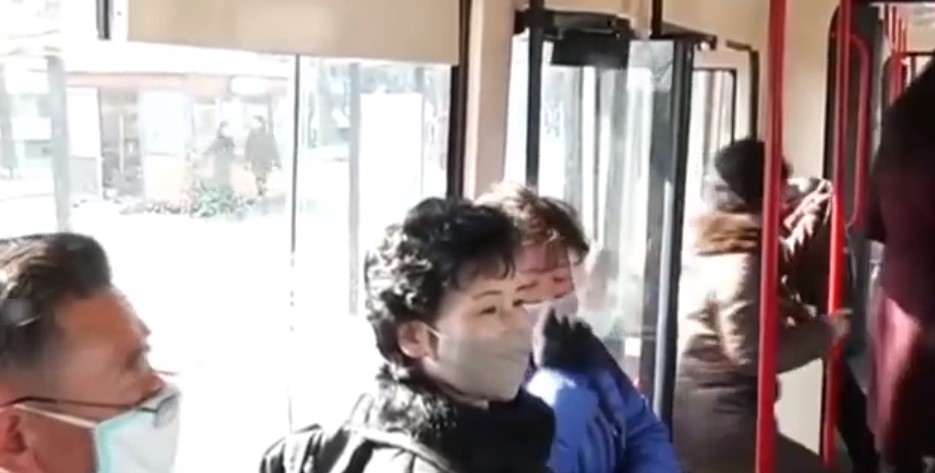face_with_mask: (0, 229, 191, 473), (362, 196, 535, 406)
